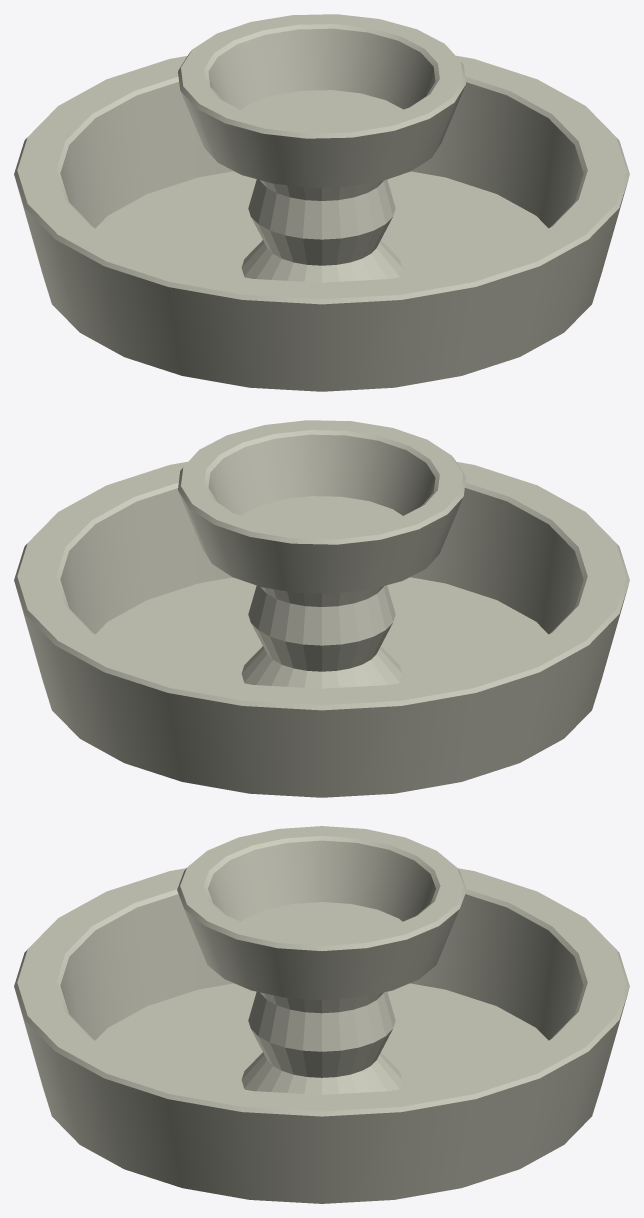
File: Fuente_FBX.fbx
3 renders of one model, top to bottom at view 1: azimuth 30°, elevation 25°; view 2: azimuth 150°, elevation 25°; view 3: azimuth 270°, elevation 25°, orthographic.
Parts seen in each view (by area): view 1: Fuente; view 2: Fuente; view 3: Fuente.
Boxes of the visible parts, <box> form: Fuente: <box>14,14,629,391</box>; Fuente: <box>14,420,629,797</box>; Fuente: <box>14,826,629,1203</box>.
Bounding box in the file's own units: 4.7 × 1.68 × 4.7.
